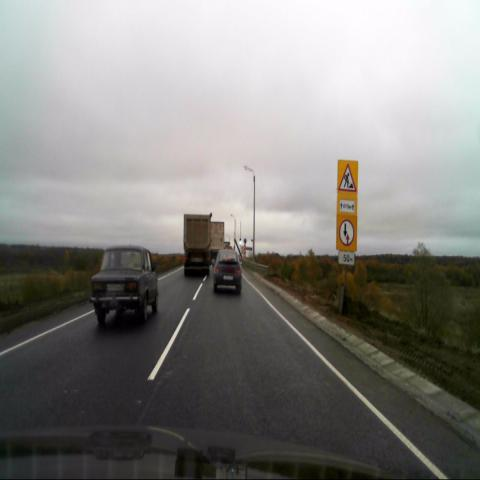2_6: (336, 216, 357, 252)
